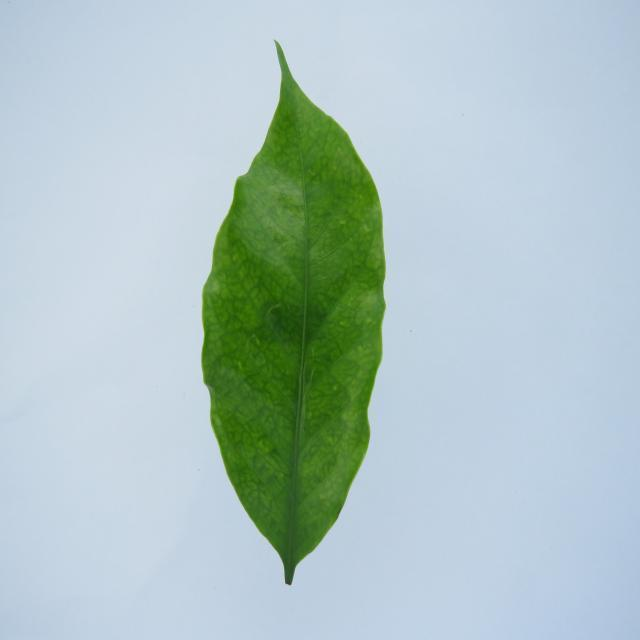DeficienciaNutricional-Hierro: (202, 43, 385, 583)
